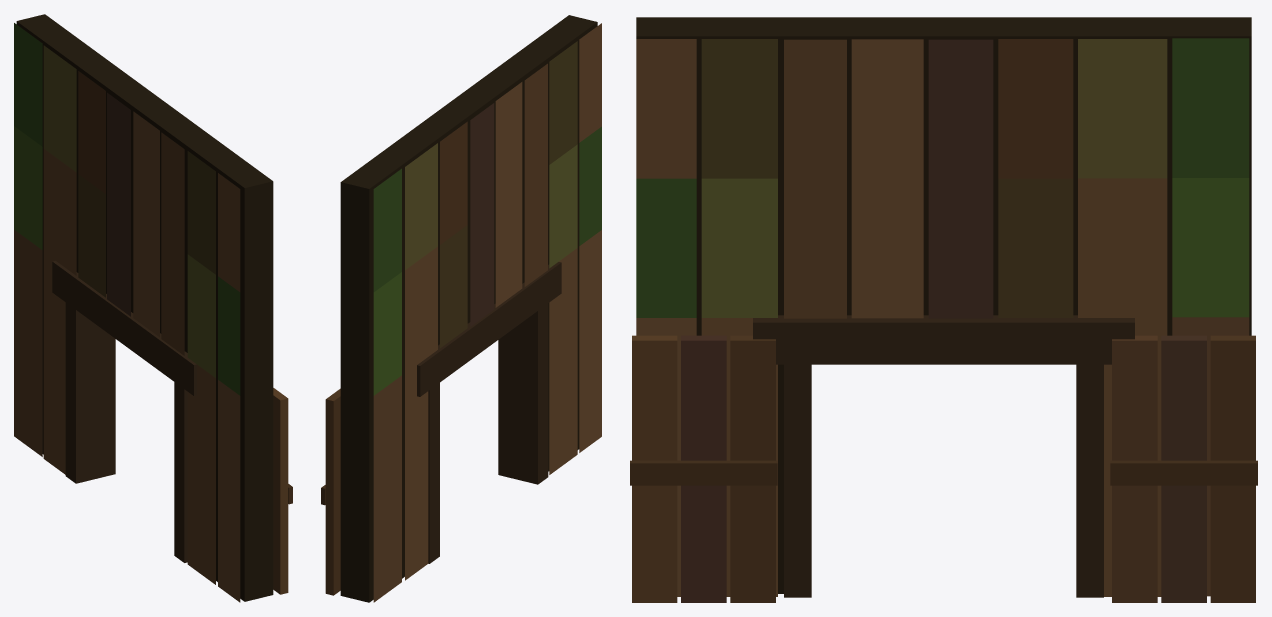
The model's file is wall-mossy-window-high.glb.
The picture shows the model from 3 angles, left to right: view 1: azimuth 30°, elevation 25°; view 2: azimuth 150°, elevation 25°; view 3: azimuth 270°, elevation 25°; orthographic projection. The views are drawn at different scales.
Visible parts, largest first — view 1: wall-mossy-window-high; view 2: wall-mossy-window-high; view 3: wall-mossy-window-high.
Part boxes in pixels (box(x1,y1,x2,y2)): wall-mossy-window-high: box(14, 14, 292, 602); wall-mossy-window-high: box(321, 15, 601, 602); wall-mossy-window-high: box(630, 17, 1257, 602).
Size of the model in its own units: 0.135 by 1 by 1.02.
